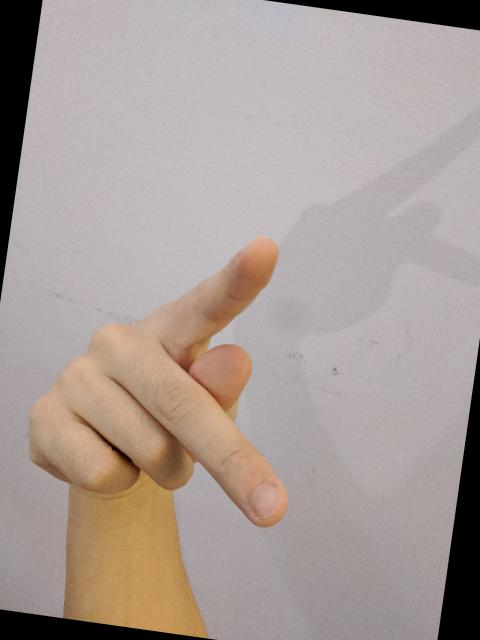P: (15, 200, 332, 538)
